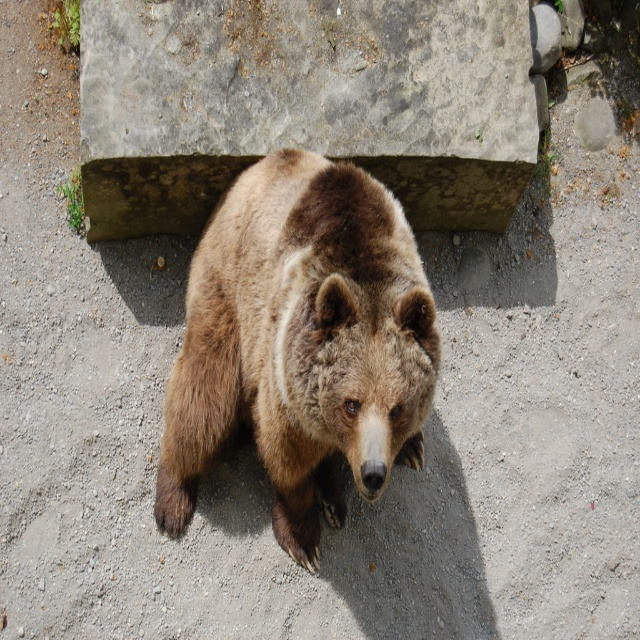Brown bear: (153, 146, 444, 579)
